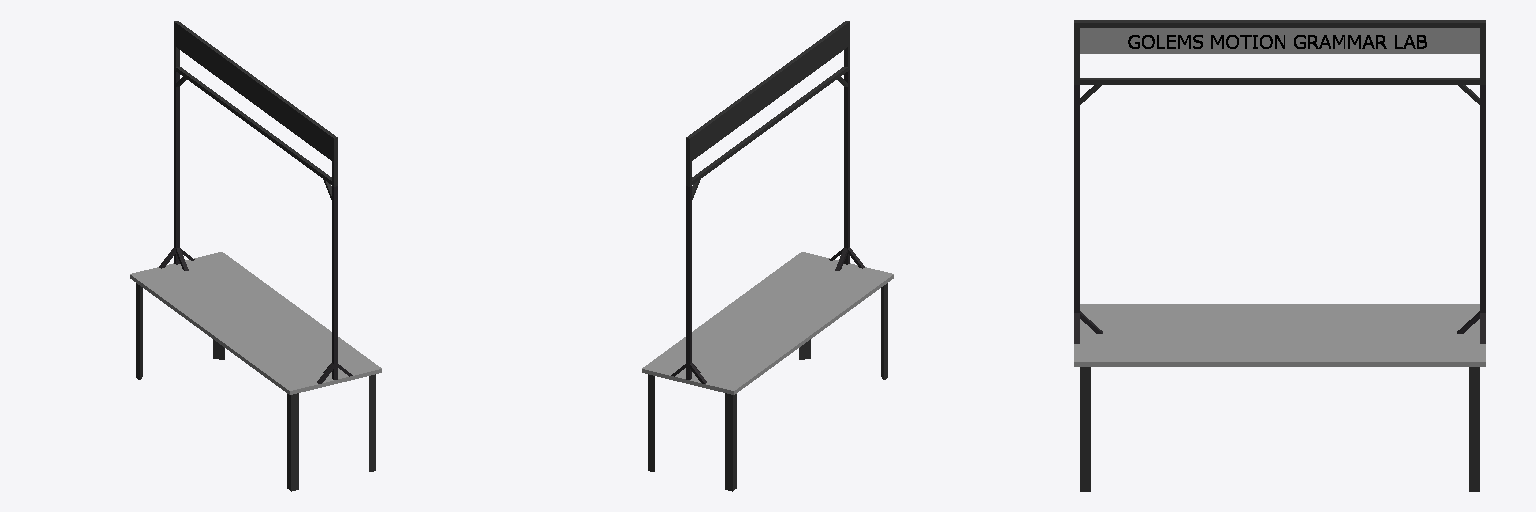
URDF robot description (LWA4_table):
<robot name="LWA4_table">
  <link name="LWA4_table">
    <inertial>
      <origin xyz="0.0 0.0 0.0" rpy="0 0 0"/>
      <mass value="5.0"/>
      <inertia ixx="1" ixy="0.0" ixz="0.0" iyy="1" iyz="0.0" izz="1" />
    </inertial>

    <visual>
      <geometry>
        <mesh filename="../meshes/LWA4_table_title_MARKER.dae" scale="1 1 1" />
      </geometry>
     </visual>

    <collision>
      <geometry>
        <mesh filename="../meshes/LWA4_table_title_MARKER.dae" scale="1 1 1" />
      </geometry>
    </collision>

  </link>
</robot>

--- Render facts (derived) ---
Views: 3 orthographic renders of the robot side by side, from view 1: azimuth 30°, elevation 25°; view 2: azimuth 150°, elevation 25°; view 3: azimuth 270°, elevation 25°.
Robot: LWA4_table — 1 links, 0 joints (none); root link LWA4_table; default pose: every joint at zero.
Visible links, largest first — view 1: LWA4_table; view 2: LWA4_table; view 3: LWA4_table.
Link boxes in pixels (x1,y1,x2,y2): LWA4_table: (130, 21, 381, 491); LWA4_table: (642, 21, 893, 491); LWA4_table: (1074, 20, 1485, 491).
Size in the robot's own frame: 0.6096 by 1.83 by 2.17 metres.
Meshes: 1 distinct files referenced, 1 mesh visuals loaded (1 Collada DAE).